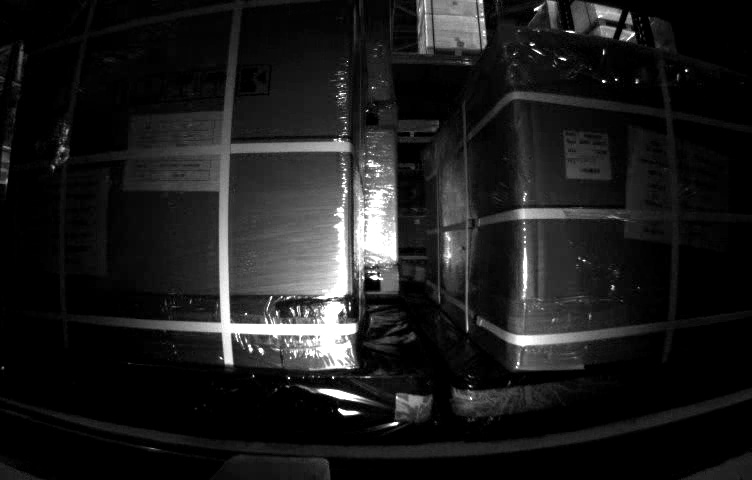True Barcode: (562, 130, 612, 179)
